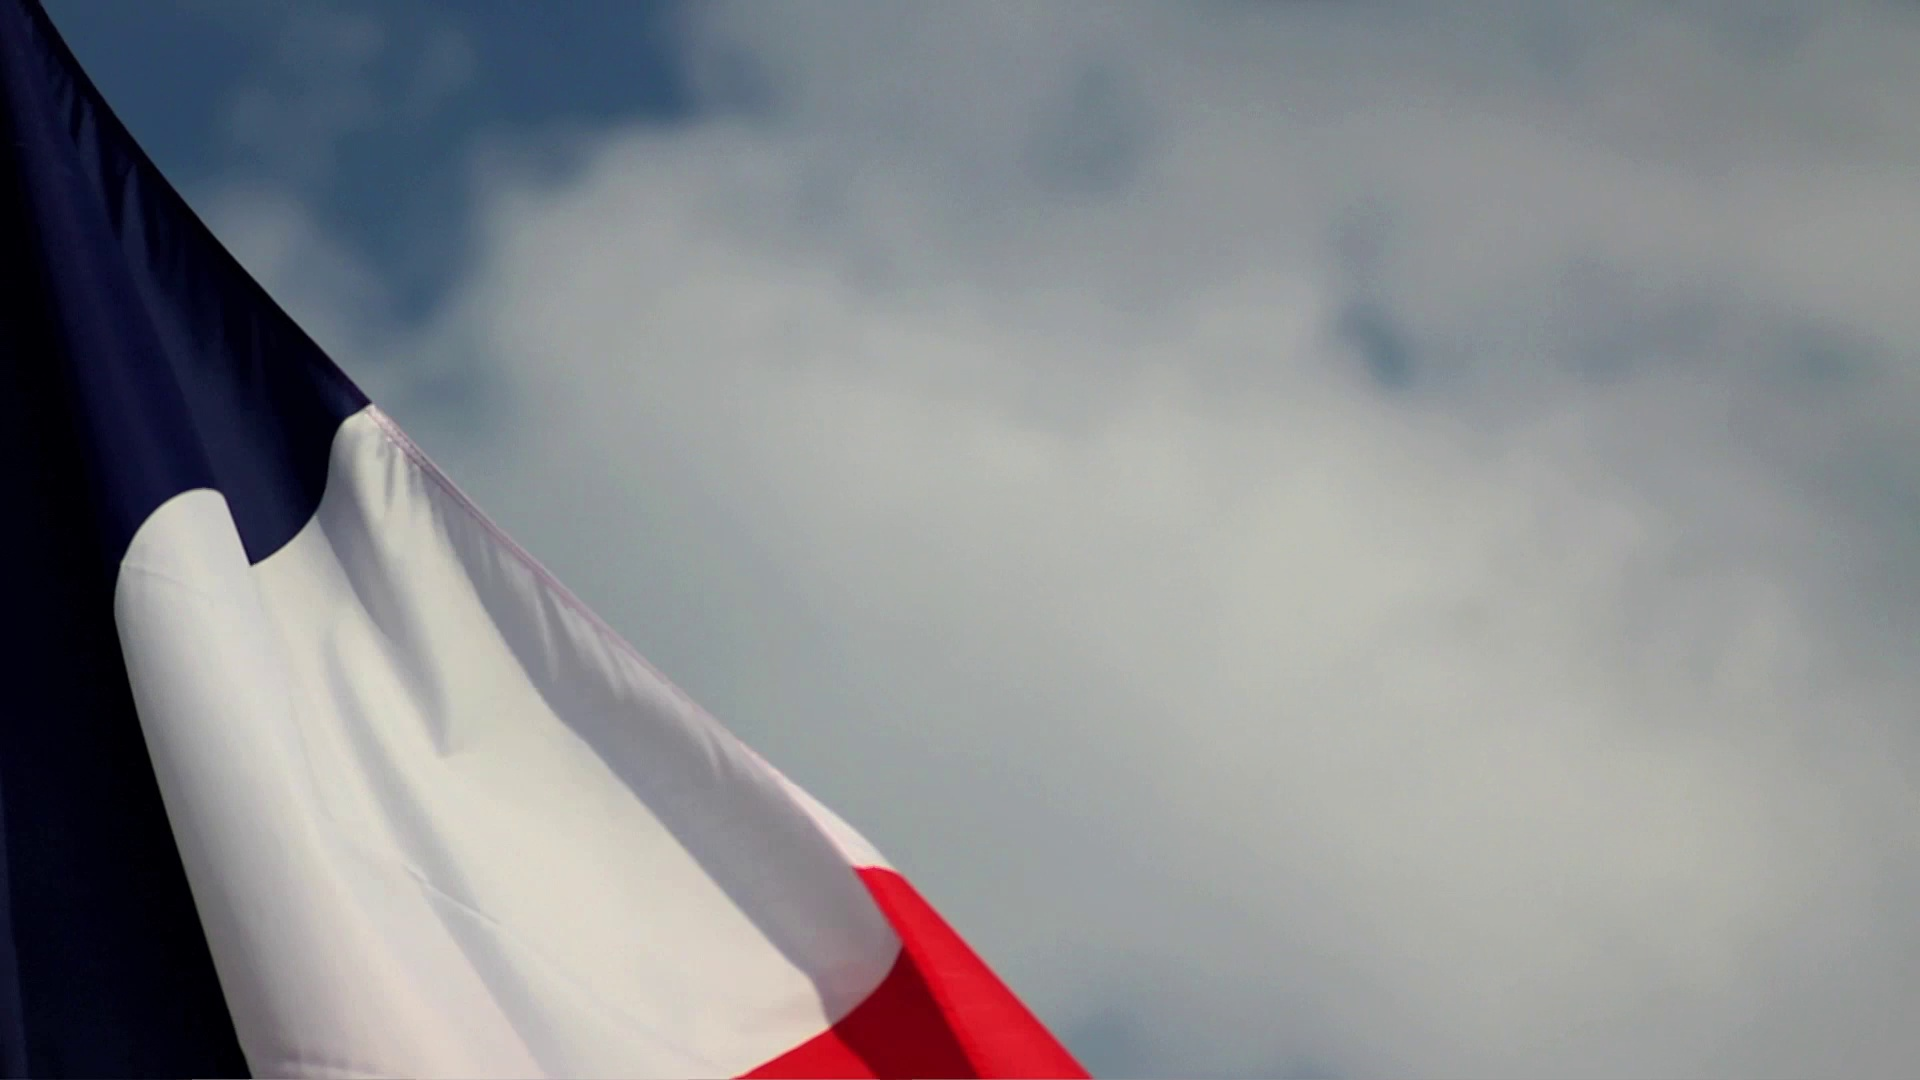French Flag: (1, 1, 1113, 1080)
